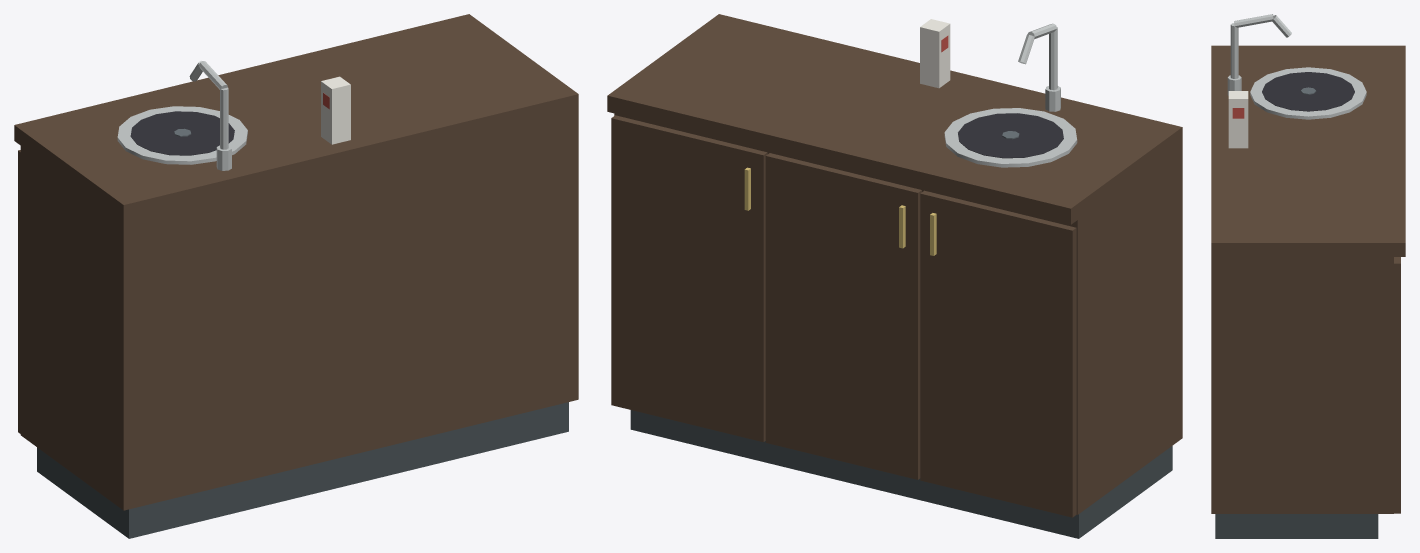
File: sink_cabinet.fbx
3 renders of one model, left to right at view 1: azimuth 30°, elevation 25°; view 2: azimuth 150°, elevation 25°; view 3: azimuth 270°, elevation 25°, orthographic. The views are drawn at different scales.
Visible parts, largest first — view 1: sink_cabinet; view 2: sink_cabinet; view 3: sink_cabinet.
Boxes of the visible parts, x1,y1,x2,y2 form: sink_cabinet: [14, 14, 578, 538]; sink_cabinet: [607, 14, 1182, 538]; sink_cabinet: [1211, 14, 1405, 538].
Size of the model in its own units: 120 by 108 by 50.
